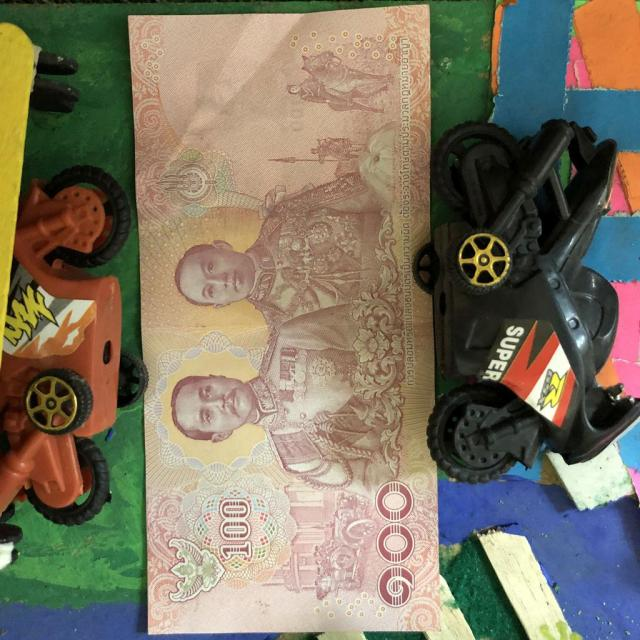THAI100: (129, 6, 441, 634)
